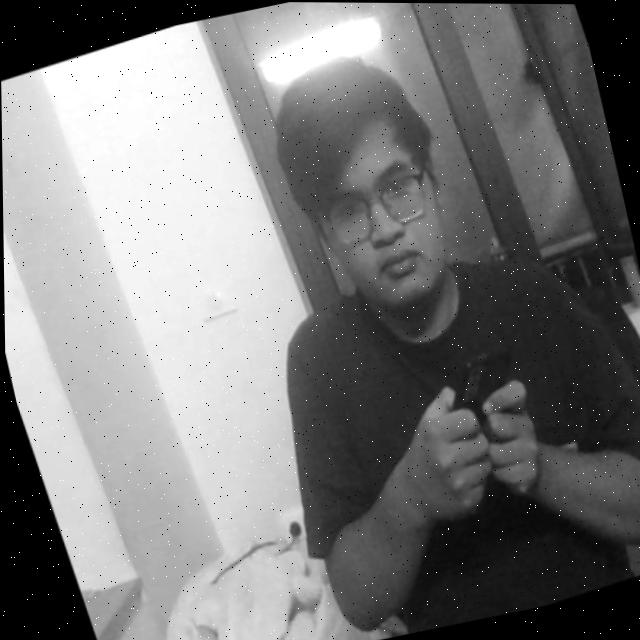phone: (422, 331, 536, 456)
